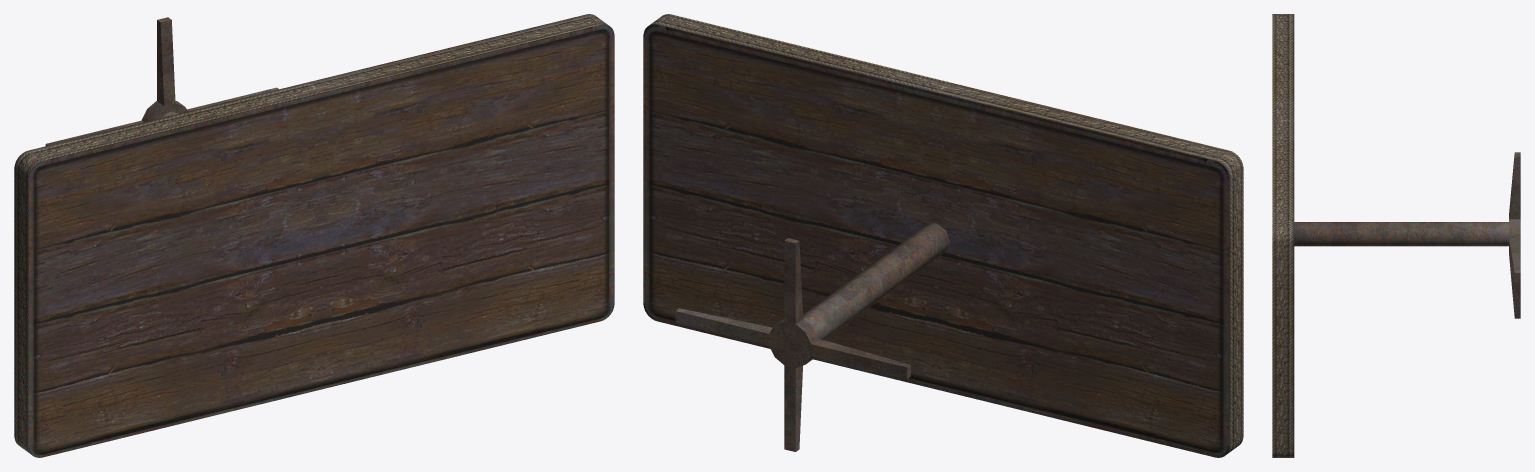
File: dinertable.obj
3 views of the same model, side by side, from view 1: azimuth 30°, elevation 25°; view 2: azimuth 150°, elevation 25°; view 3: azimuth 270°, elevation 25° (orthographic). The views are drawn at different scales.
Parts seen in each view (by area): view 1: DinerTable01_NV:0; view 2: DinerTable01_NV:0; view 3: DinerTable01_NV:0.
Part boxes in pixels (x1,y1,x2,y2): DinerTable01_NV:0: [14, 14, 614, 457]; DinerTable01_NV:0: [643, 14, 1243, 457]; DinerTable01_NV:0: [1272, 14, 1520, 457].
Size of what is drawn, in the model's own units: 117 by 56.61 by 55.26.
